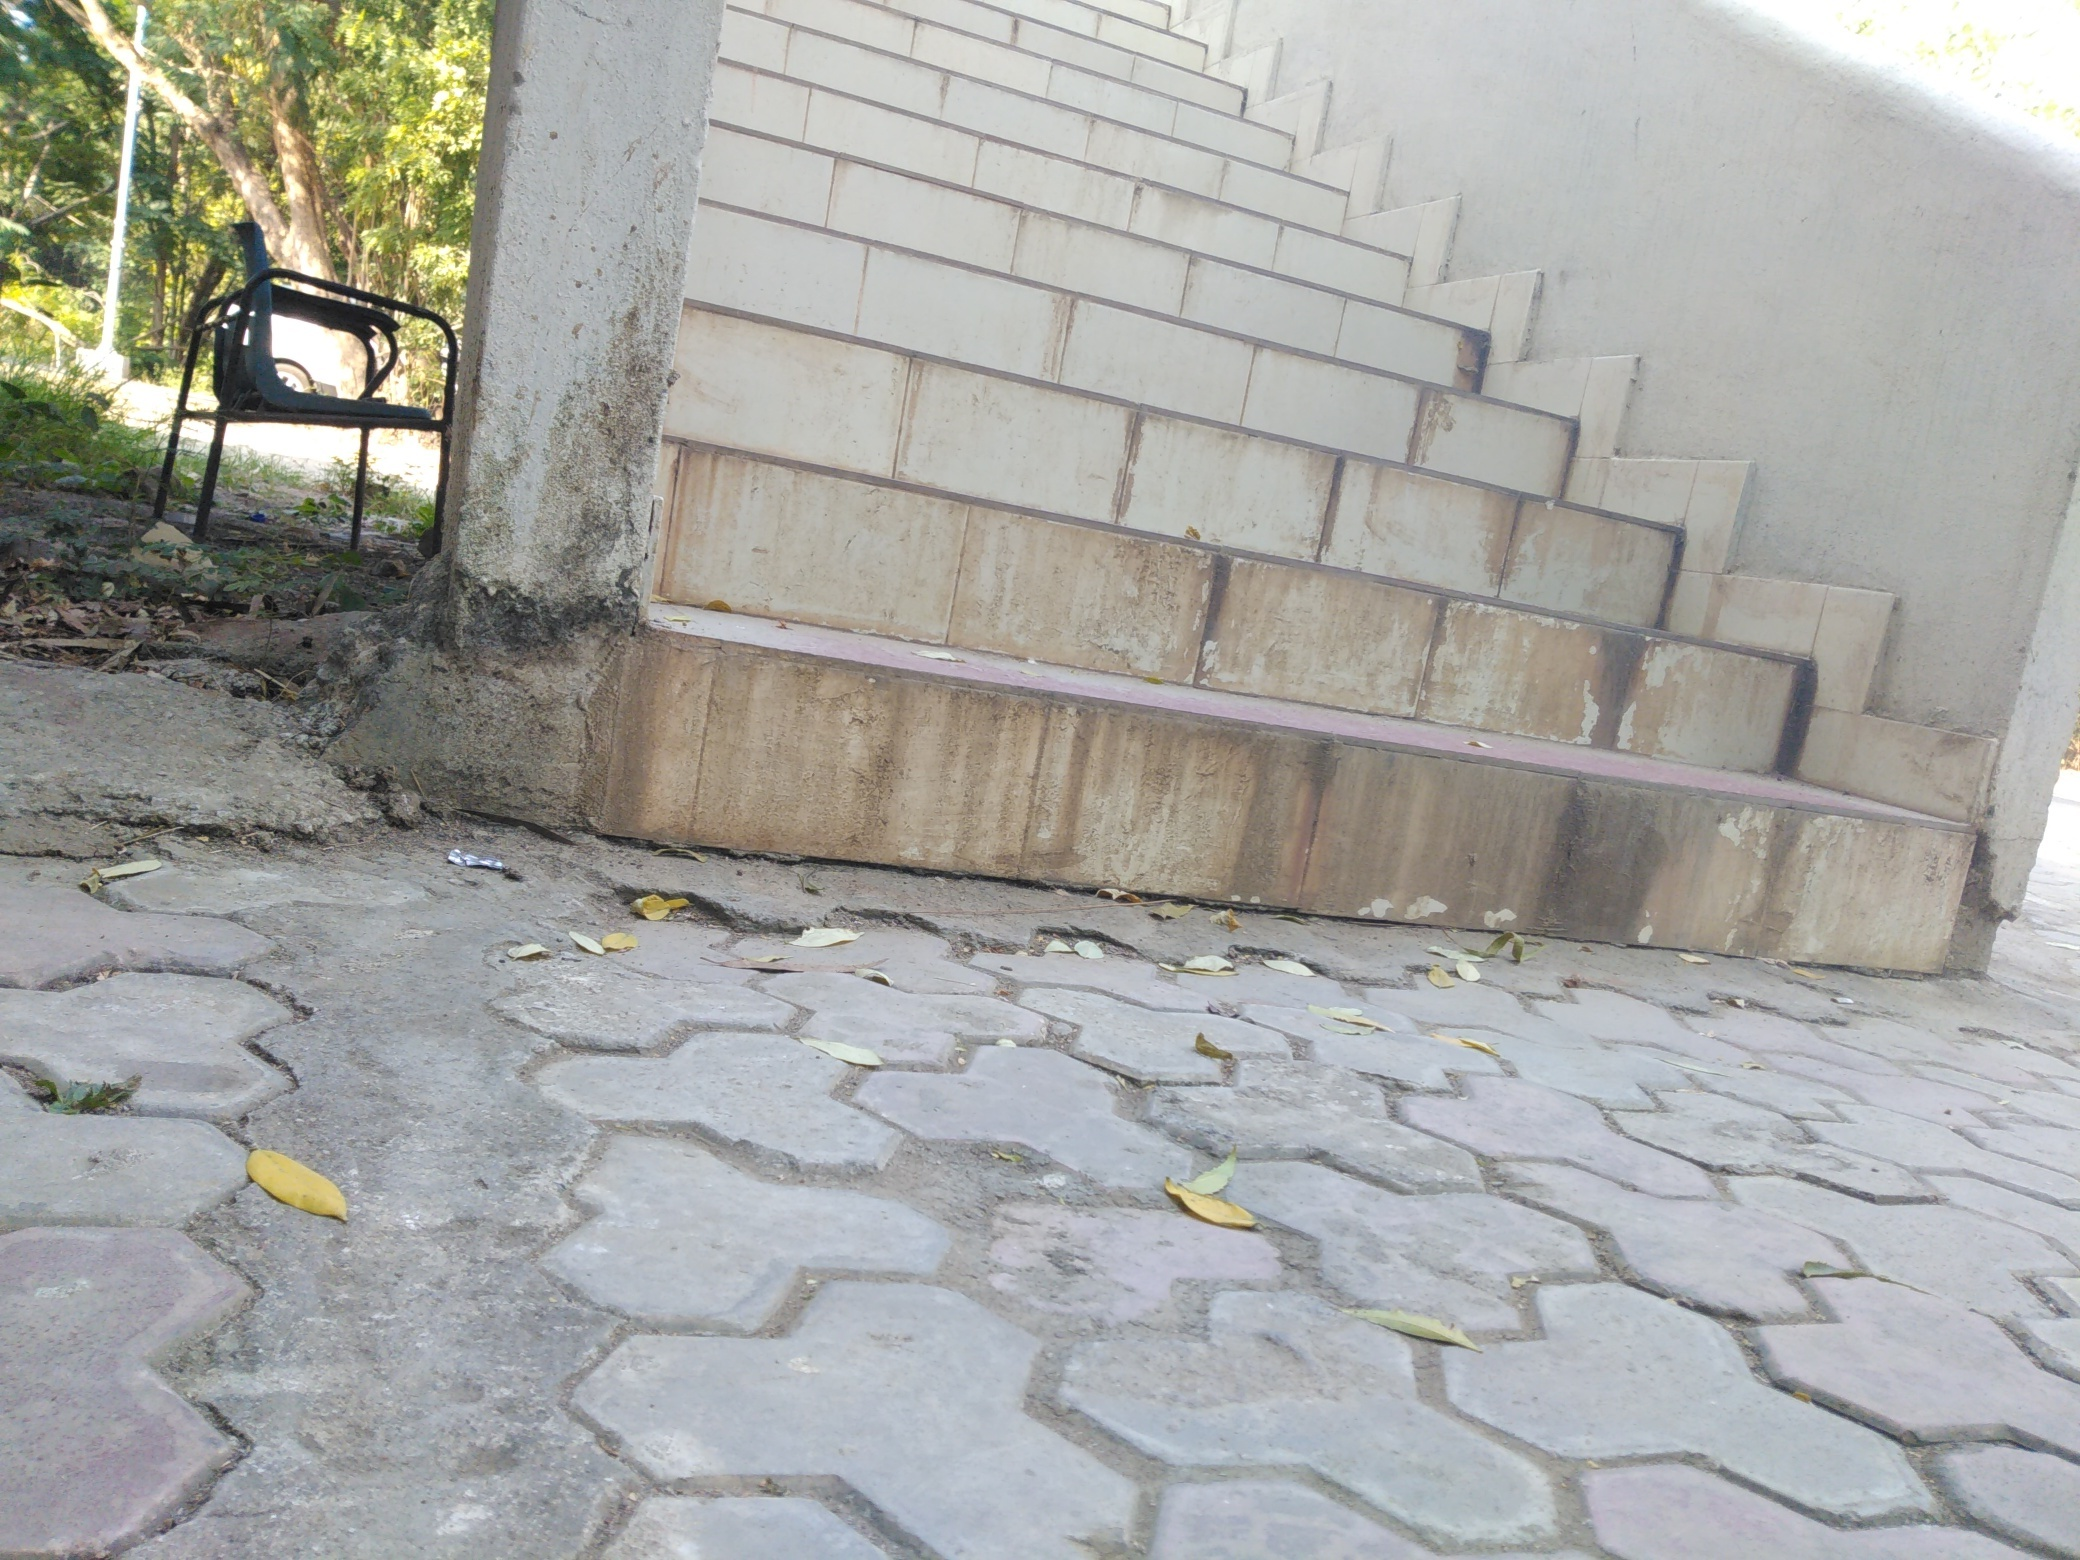stairs_up: (644, 8, 1982, 982)
